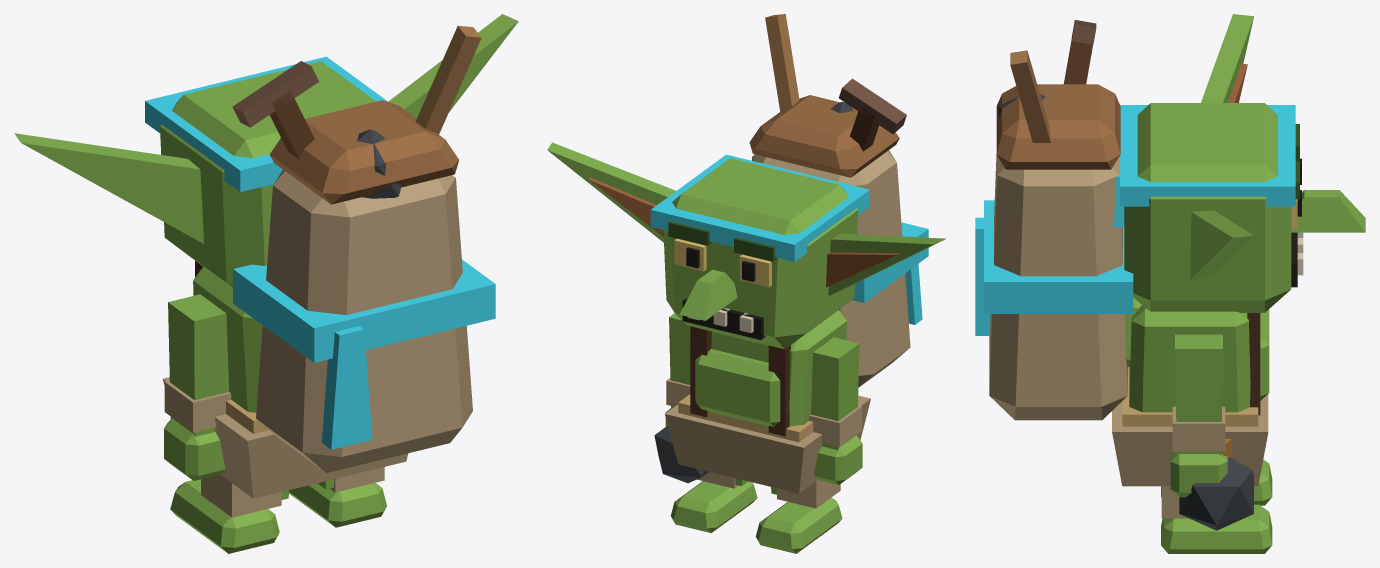
Rendered from CH_PitGoblin.fbx.
3 views of the same model, side by side, from view 1: azimuth 30°, elevation 25°; view 2: azimuth 150°, elevation 25°; view 3: azimuth 270°, elevation 25° (orthographic). The views are drawn at different scales.
Parts seen in each view (by area): view 1: Satchel, Head, SatchelFlap, SatchelRag, EarL, Rag, ArmL, RagTail, Headband, Body, FootL, JunkStick (+10 smaller); view 2: Head, Satchel, Rag, SatchelFlap, Headband, Belly, Body, ArmL, FootL, FootR, EarR, EarL (+22 smaller); view 3: Satchel, Head, SatchelFlap, Body, SatchelRag, Headband, Rag, ArmR, FootR, BombBall, EarR, Nose (+12 smaller).
Boxes of the visible parts, <box> form: Satchel: <box>256,169,472,473</box>; Head: <box>160,61,375,287</box>; SatchelFlap: <box>269,100,459,204</box>; SatchelRag: <box>233,259,495,362</box>; EarL: <box>14,133,203,243</box>; Rag: <box>163,377,408,498</box>; ArmL: <box>168,294,229,436</box>; RagTail: <box>321,326,372,449</box>; Headband: <box>145,56,387,192</box>; Body: <box>193,267,262,412</box>; FootL: <box>170,479,279,553</box>; JunkStick: <box>415,25,481,134</box>; Head: <box>663,158,858,349</box>; Satchel: <box>752,150,910,387</box>; Rag: <box>665,395,870,493</box>; SatchelFlap: <box>749,95,899,177</box>; Headband: <box>650,154,869,261</box>; Belly: <box>695,349,780,426</box>; Body: <box>689,310,846,426</box>; ArmL: <box>811,337,859,449</box>; FootL: <box>755,497,842,553</box>; FootR: <box>671,481,757,533</box>; EarR: <box>547,142,675,242</box>; EarL: <box>828,233,946,295</box>; Satchel: <box>989,154,1127,420</box>; Head: <box>1124,103,1291,312</box>; SatchelFlap: <box>996,84,1120,169</box>; Body: <box>1129,305,1250,412</box>; SatchelRag: <box>984,200,1133,313</box>; Headband: <box>1120,105,1295,206</box>; Rag: <box>1112,394,1268,486</box>; ArmR: <box>1175,334,1222,455</box>; FootR: <box>1161,504,1272,553</box>; BombBall: <box>1179,457,1253,530</box>; EarR: <box>1190,210,1253,279</box>; Nose: <box>1291,190,1365,232</box>.
Size of the model in its own units: 1.21 by 0.89 by 1.27.
